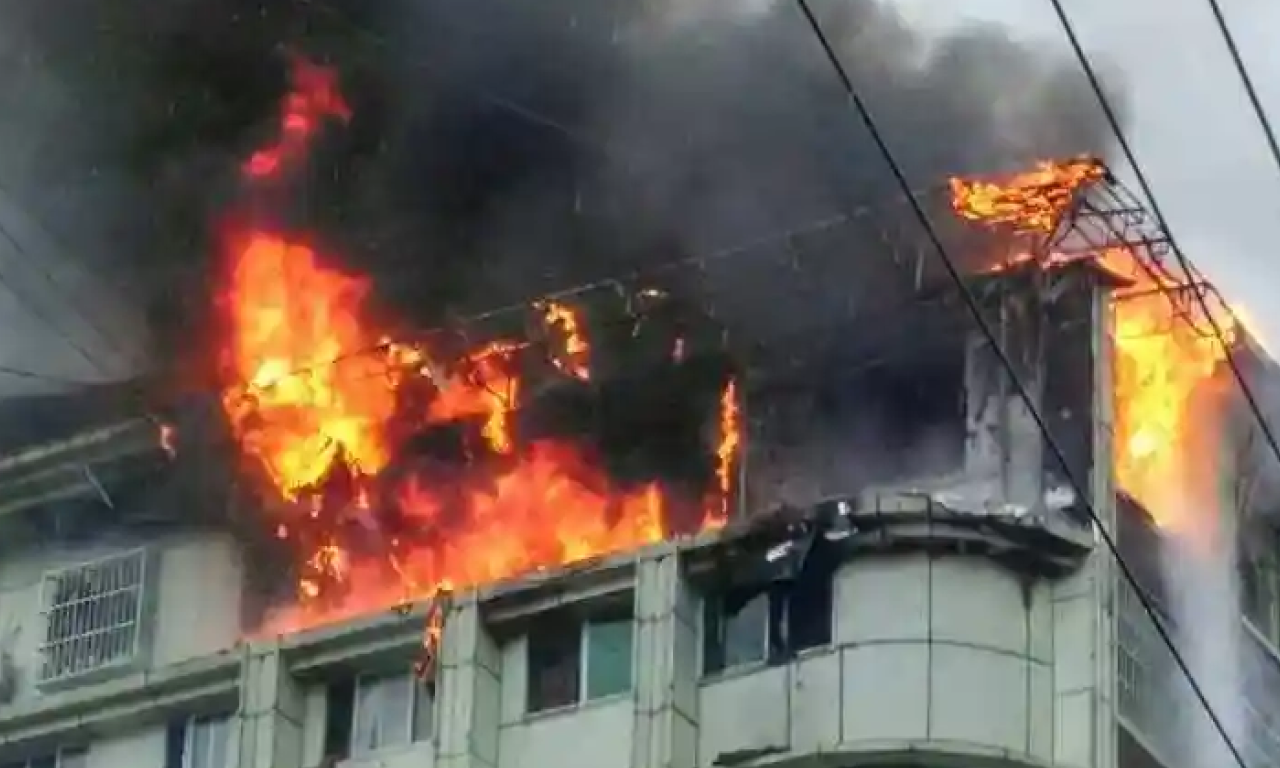fire: (33, 16, 1232, 636)
